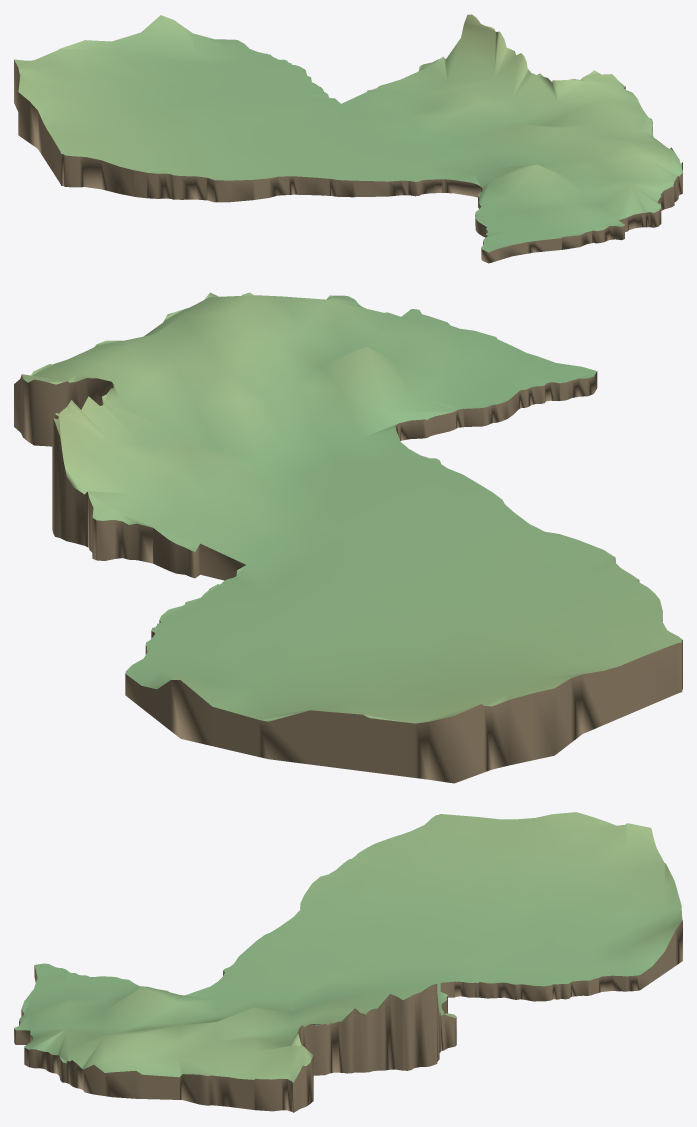
Rendered from PRY.glb.
3 views of the same model, one above another, from view 1: azimuth 30°, elevation 25°; view 2: azimuth 150°, elevation 25°; view 3: azimuth 270°, elevation 25° (orthographic). The views are drawn at different scales.
Parts seen in each view (by area): view 1: PRY; view 2: PRY; view 3: PRY.
Part boxes in pixels (x1,y1,x2,y2): PRY: (14, 14, 682, 263); PRY: (14, 292, 682, 783); PRY: (14, 812, 682, 1112).
Bounding box in the file's own units: 1.5 × 0.2137 × 1.6.
